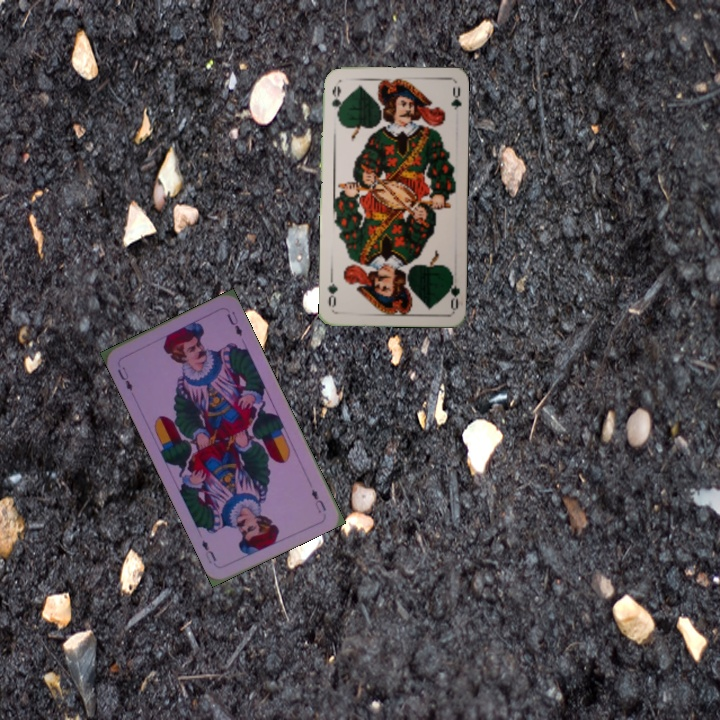EU: (307, 485, 329, 516), (113, 363, 135, 393)
GO: (443, 271, 462, 311), (328, 82, 343, 121)
